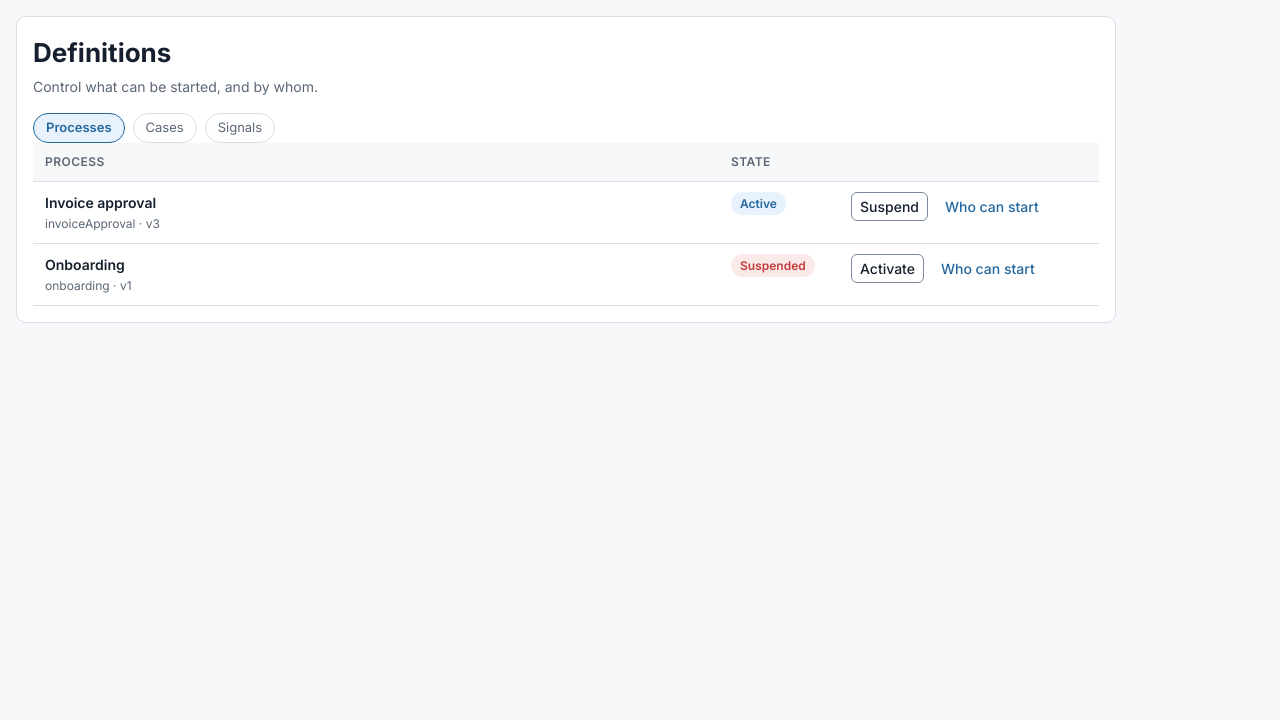
Scenario: Definitions — processes › reports a rejected change
Click the button "Activate".
click(888, 268)  # box [851,254,924,283]
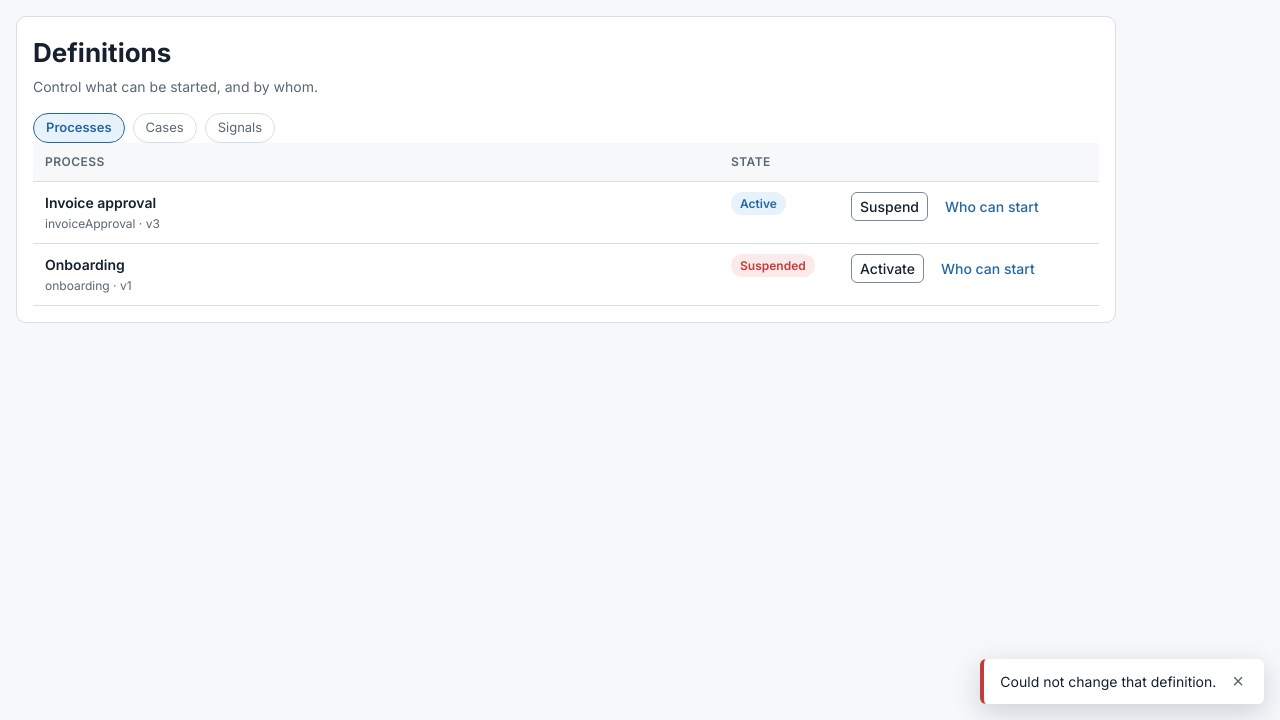
Now the text "Could not change that definition." is shown, box [1000,671,1216,692]
